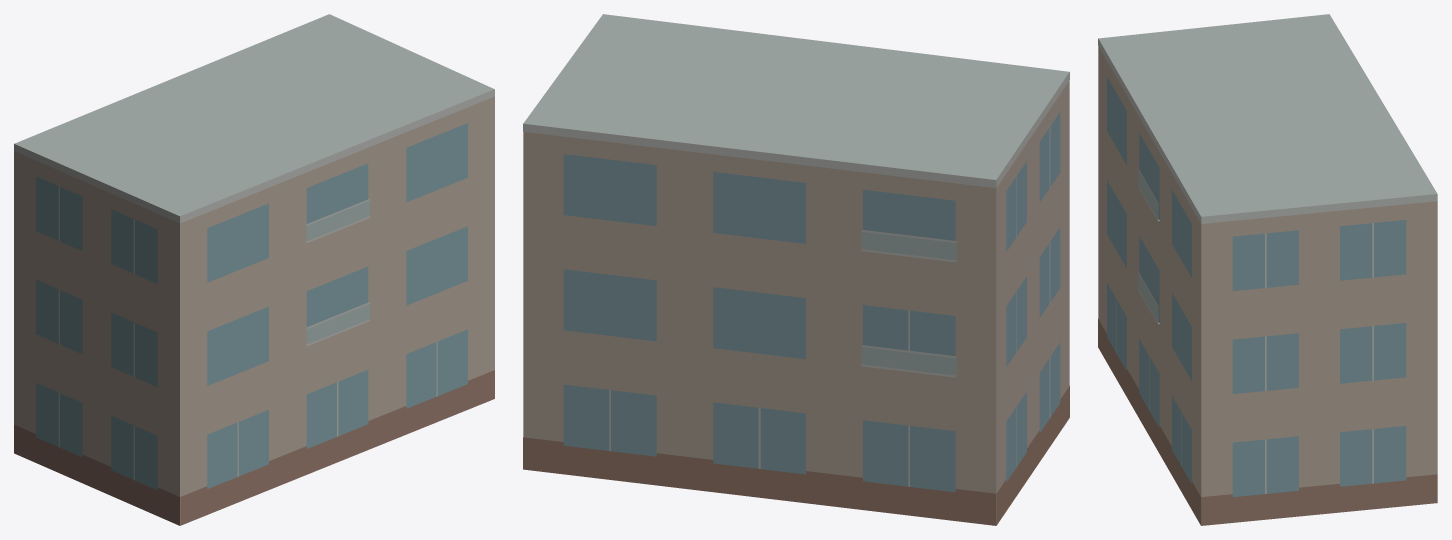
File: survey-upis-32924026.glb
3 views of the same model, side by side, from view 1: azimuth 30°, elevation 25°; view 2: azimuth 150°, elevation 25°; view 3: azimuth 270°, elevation 25° (orthographic). The views are drawn at different scales.
Visible parts, largest first — view 1: survey-upis-32924026.tmp; view 2: survey-upis-32924026.tmp; view 3: survey-upis-32924026.tmp.
Boxes of the visible parts, x1,y1,x2,y2 form: survey-upis-32924026.tmp: [14, 14, 494, 525]; survey-upis-32924026.tmp: [523, 14, 1069, 525]; survey-upis-32924026.tmp: [1098, 14, 1437, 525].
Bounding box in the file's own units: 14.79 × 10.5 × 10.46.
